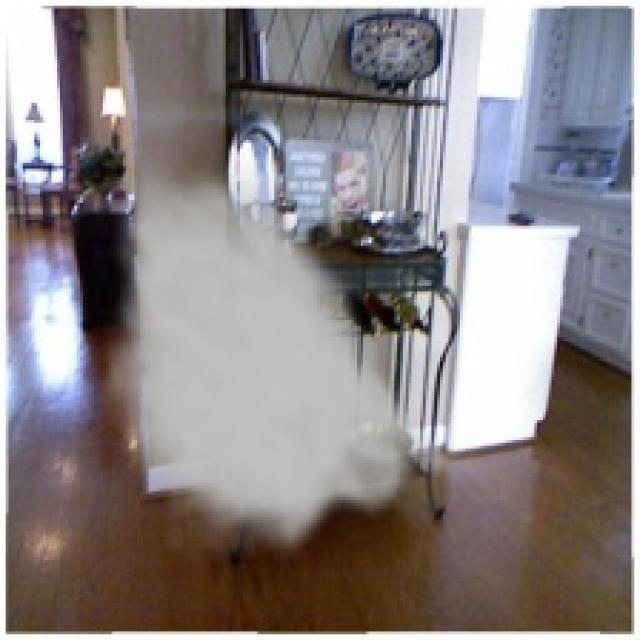smoke: (97, 143, 483, 566)
